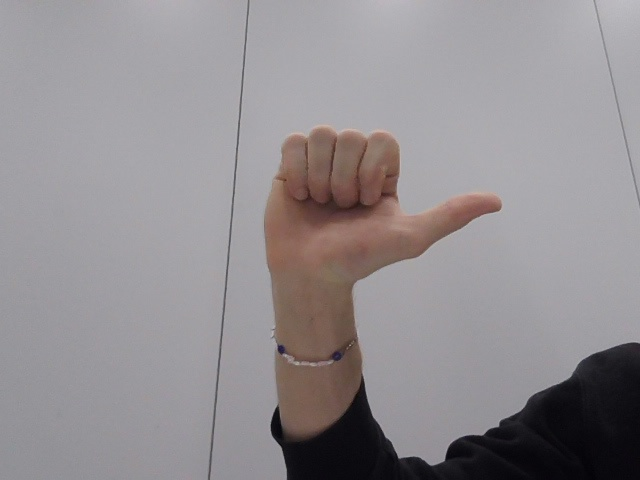left: (233, 112, 514, 322)
